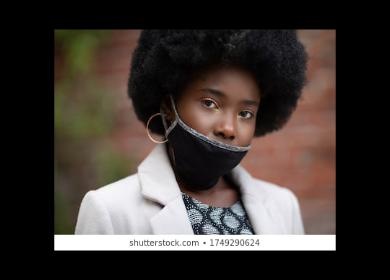mask_weared_incorrect: (188, 90, 258, 162)
